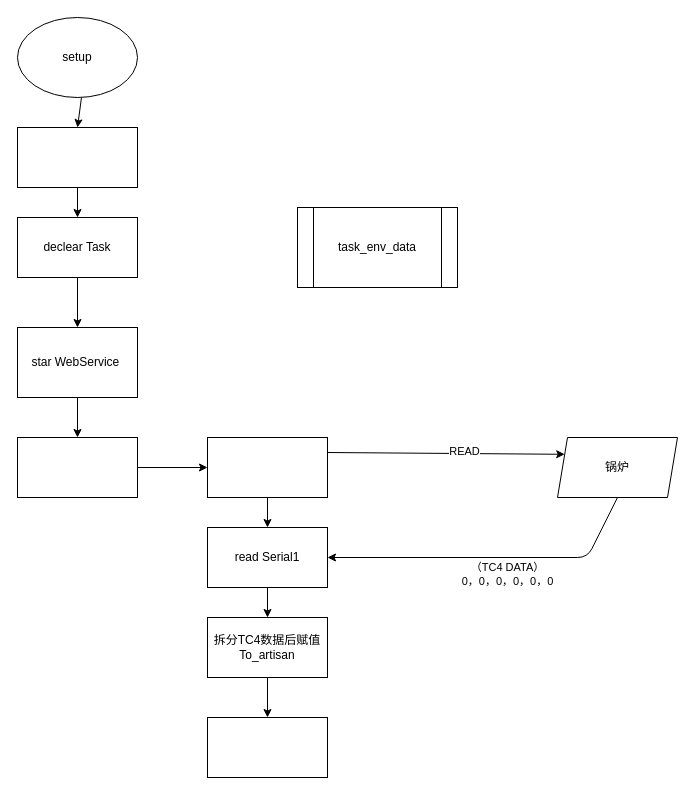
This 695x795 diagram has some shape labels left out. The centre of each missing label's shape, as x and y in pixels:
"include lib define funcitons" goes at point 77,157.
"loop" goes at point 77,467.
"send command READ" goes at point 267,467.
"webSocketEvent 处理函数" goes at point 267,747.
